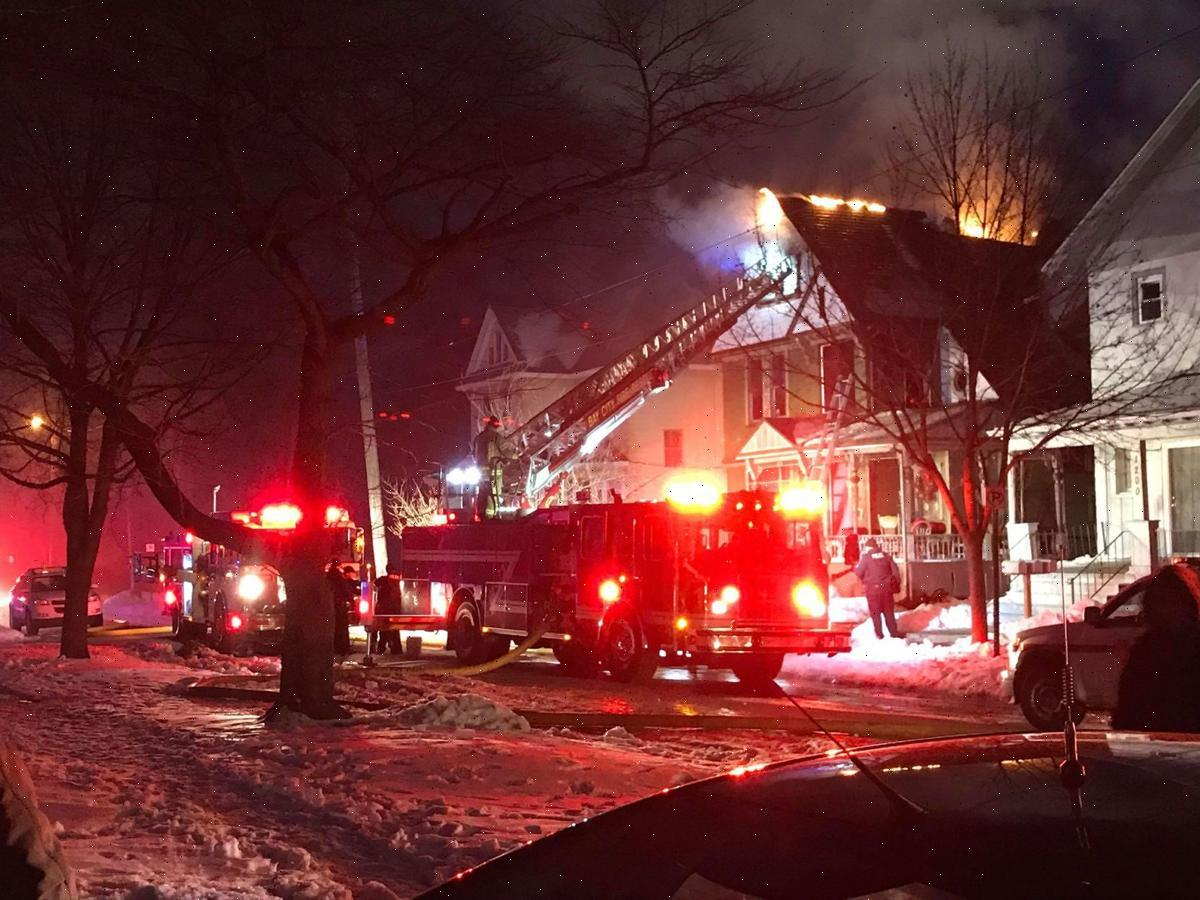fire: (948, 194, 1008, 248), (806, 185, 894, 219), (753, 186, 788, 245)
smoke: (771, 0, 1058, 199), (653, 183, 750, 285)
